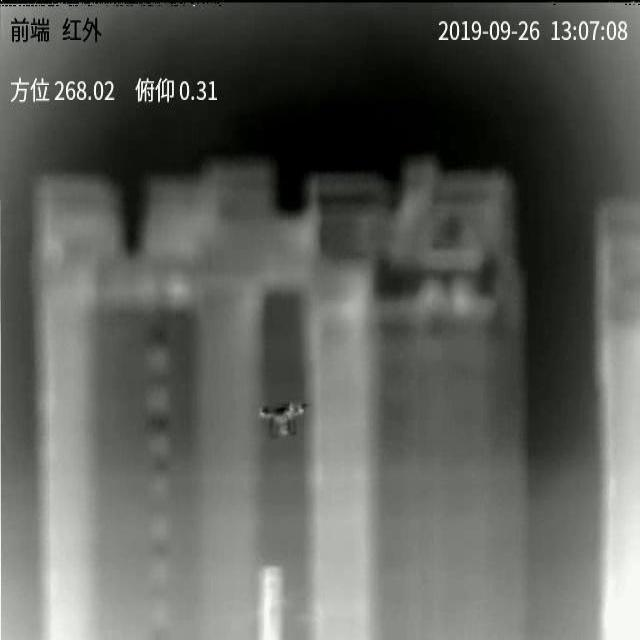drone: (259, 402, 309, 440)
